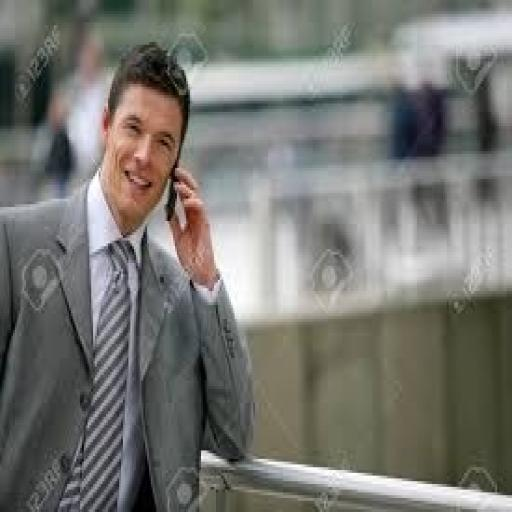calling: (0, 36, 257, 510)
